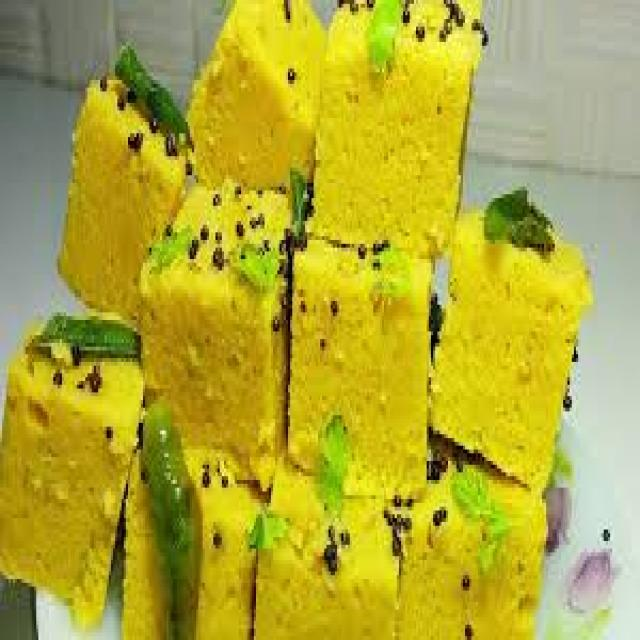DHOKLA: (314, 0, 482, 255), (0, 320, 139, 617), (141, 171, 288, 446), (292, 236, 429, 472), (58, 72, 183, 316), (190, 0, 324, 183)
